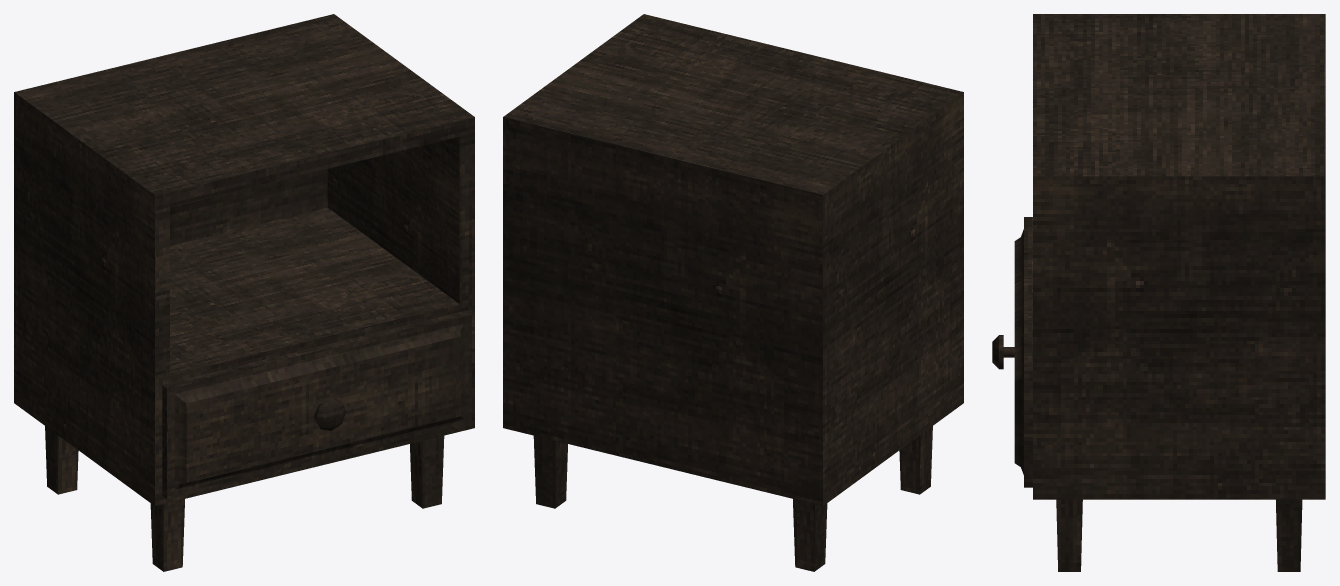
Rendered from bedside_table_2_2.glb.
3 views of the same model, side by side, from view 1: azimuth 30°, elevation 25°; view 2: azimuth 150°, elevation 25°; view 3: azimuth 270°, elevation 25° (orthographic). The views are drawn at different scales.
Visible parts, largest first — view 1: bedside_table_2_2, bedside_table_2_2_drawer; view 2: bedside_table_2_2; view 3: bedside_table_2_2, bedside_table_2_2_drawer.
Boxes of the visible parts, <box> form: bedside_table_2_2: <box>14,14,474,571</box>; bedside_table_2_2_drawer: <box>162,310,471,499</box>; bedside_table_2_2: <box>503,14,963,571</box>; bedside_table_2_2: <box>1033,14,1325,571</box>; bedside_table_2_2_drawer: <box>992,217,1032,487</box>.
Size of the model in its own units: 0.504 by 0.588 by 0.4374.
Materials: 1 (1 with a texture image).
